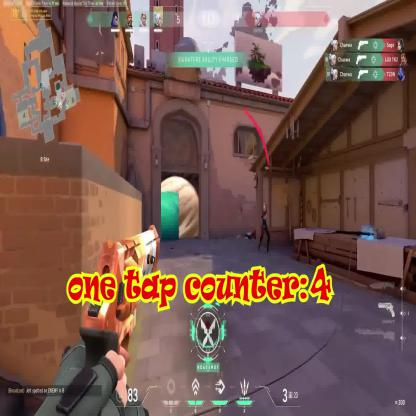enemy: (258, 203, 270, 253)
enemy_head: (262, 204, 267, 214)
